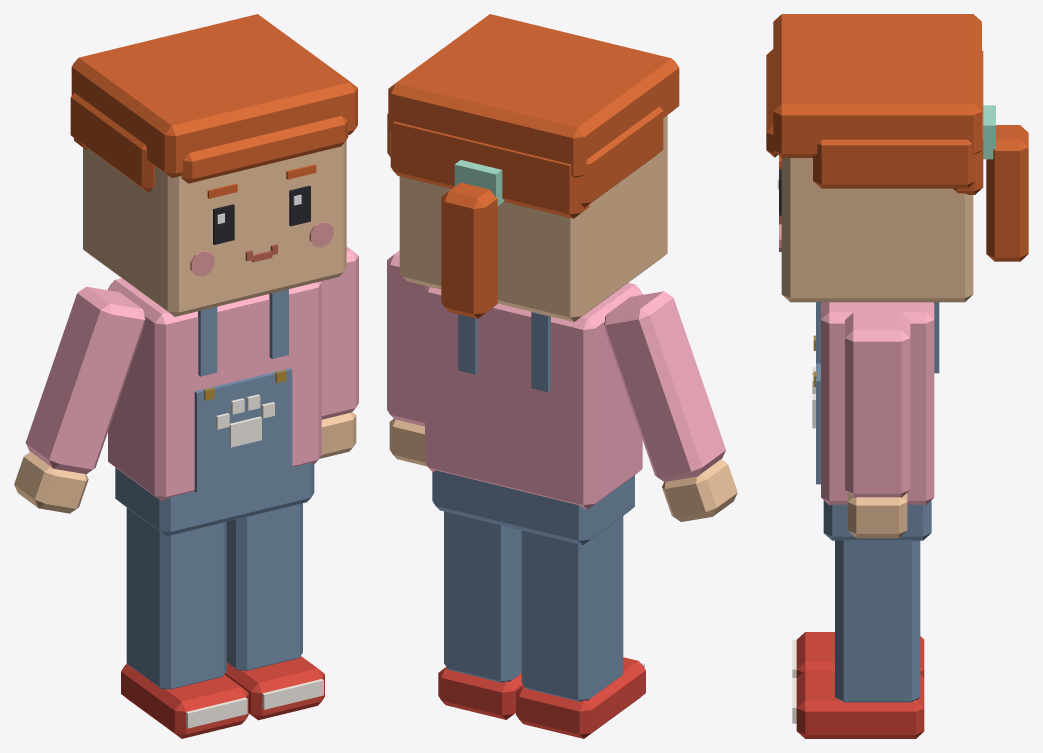
File: CleanACat_NPC_Customer_Rae.fbx
The picture shows the model from 3 angles, left to right: view 1: azimuth 30°, elevation 25°; view 2: azimuth 150°, elevation 25°; view 3: azimuth 270°, elevation 25°; orthographic projection. The views are drawn at different scales.
Parts seen in each view (by area): view 1: CleanACat_NPC_Customer_Rae_Head, CleanACat_NPC_Customer_Rae_Body, CleanACat_NPC_Customer_Rae_LegR, CleanACat_NPC_Customer_Rae_ArmR, CleanACat_NPC_Customer_Rae_LegL, CleanACat_NPC_Customer_Rae_ArmL; view 2: CleanACat_NPC_Customer_Rae_Head, CleanACat_NPC_Customer_Rae_Body, CleanACat_NPC_Customer_Rae_LegR, CleanACat_NPC_Customer_Rae_ArmR, CleanACat_NPC_Customer_Rae_LegL, CleanACat_NPC_Customer_Rae_ArmL; view 3: CleanACat_NPC_Customer_Rae_Head, CleanACat_NPC_Customer_Rae_LegL, CleanACat_NPC_Customer_Rae_ArmL, CleanACat_NPC_Customer_Rae_Body, CleanACat_NPC_Customer_Rae_LegR.
Boxes of the visible parts, <box> form: CleanACat_NPC_Customer_Rae_Head: <box>70,14,357,316</box>; CleanACat_NPC_Customer_Rae_Body: <box>108,278,321,536</box>; CleanACat_NPC_Customer_Rae_LegR: <box>121,507,248,738</box>; CleanACat_NPC_Customer_Rae_ArmR: <box>14,286,145,513</box>; CleanACat_NPC_Customer_Rae_LegL: <box>224,503,324,720</box>; CleanACat_NPC_Customer_Rae_ArmL: <box>319,247,358,458</box>; CleanACat_NPC_Customer_Rae_Head: <box>387,14,679,321</box>; CleanACat_NPC_Customer_Rae_Body: <box>425,282,642,545</box>; CleanACat_NPC_Customer_Rae_LegR: <box>516,516,645,738</box>; CleanACat_NPC_Customer_Rae_ArmR: <box>604,291,737,521</box>; CleanACat_NPC_Customer_Rae_LegL: <box>438,511,523,719</box>; CleanACat_NPC_Customer_Rae_ArmL: <box>387,250,427,466</box>; CleanACat_NPC_Customer_Rae_Head: <box>766,14,1028,302</box>; CleanACat_NPC_Customer_Rae_LegL: <box>792,540,924,738</box>; CleanACat_NPC_Customer_Rae_ArmL: <box>845,312,910,538</box>; CleanACat_NPC_Customer_Rae_Body: <box>812,302,939,540</box>; CleanACat_NPC_Customer_Rae_LegR: <box>792,632,924,677</box>.
Bounding box in the file's own units: 2.71 × 5.02 × 1.85.
Materials: 1 (1 with a texture image).
